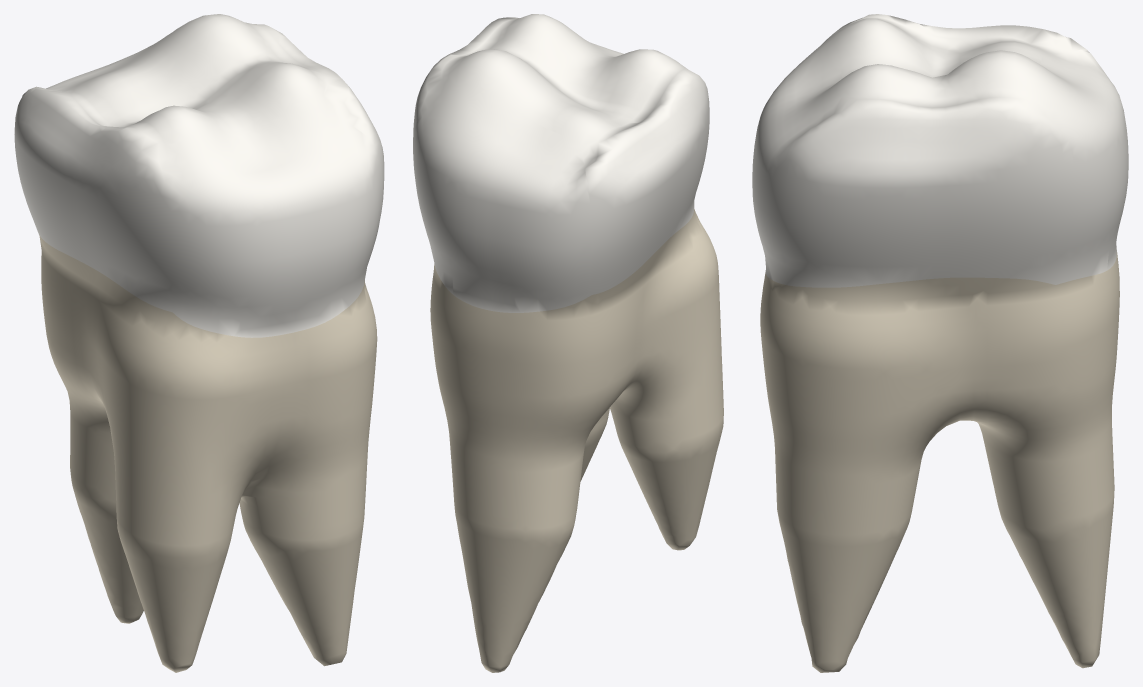
3 views of the same model, side by side, from view 1: azimuth 30°, elevation 25°; view 2: azimuth 150°, elevation 25°; view 3: azimuth 270°, elevation 25° (orthographic). The views are drawn at different scales.
Parts seen in each view (by area): view 1: root, V, D, O, M, L; view 2: root, L, O, D, M; view 3: root, M, O, L, V, D.
Boxes of the visible parts, bbox=[...] form: root: bbox=[39, 235, 377, 672]; V: bbox=[170, 99, 381, 337]; D: bbox=[14, 86, 178, 312]; O: bbox=[71, 14, 327, 143]; M: bbox=[254, 24, 384, 217]; L: bbox=[24, 33, 170, 94]; root: bbox=[430, 209, 723, 672]; L: bbox=[414, 84, 591, 312]; O: bbox=[441, 14, 684, 145]; D: bbox=[581, 64, 709, 294]; M: bbox=[413, 17, 518, 181]; root: bbox=[760, 251, 1119, 672]; M: bbox=[786, 90, 1074, 287]; O: bbox=[837, 17, 1044, 107]; L: bbox=[1040, 49, 1128, 284]; V: bbox=[752, 33, 841, 286]; D: bbox=[821, 14, 1086, 53].
Bounding box in the file's own units: 9.2 × 20.51 × 11.
